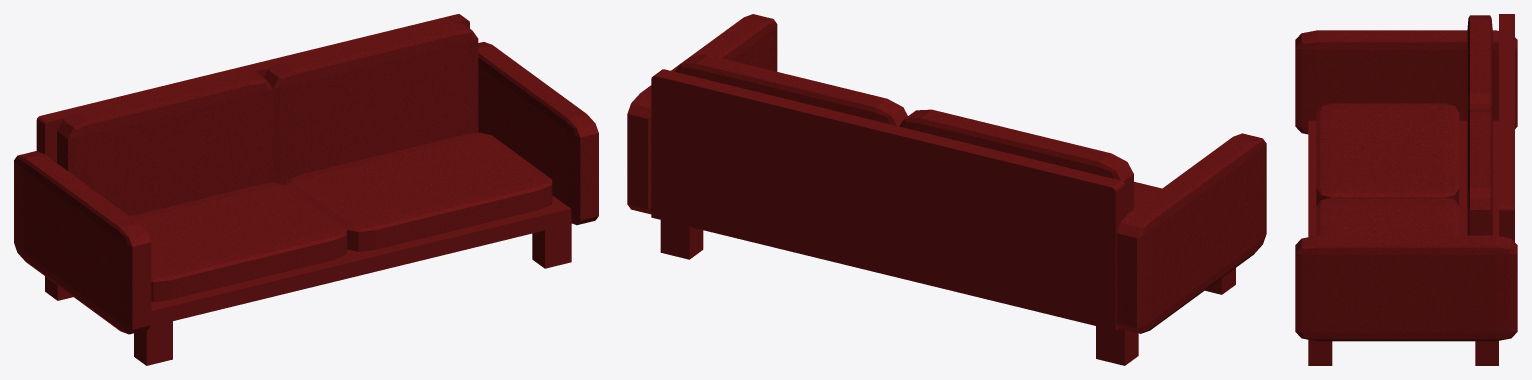
File: sofa.glb
3 renders of one model, left to right at view 1: azimuth 30°, elevation 25°; view 2: azimuth 150°, elevation 25°; view 3: azimuth 270°, elevation 25°, orthographic. The views are drawn at different scales.
Visible parts, largest first — view 1: Sofa; view 2: Sofa; view 3: Sofa.
Part boxes in pixels (x1,y1,x2,y2): Sofa: (14, 14, 598, 365); Sofa: (627, 14, 1266, 365); Sofa: (1295, 14, 1517, 365).
Size of the model in its own units: 1.61 by 0.575 by 0.7.
Materials: 1 (1 with a texture image).
